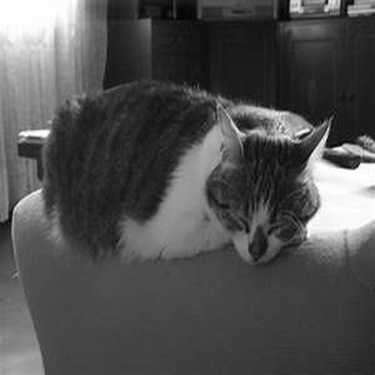cat: (40, 74, 333, 267)
